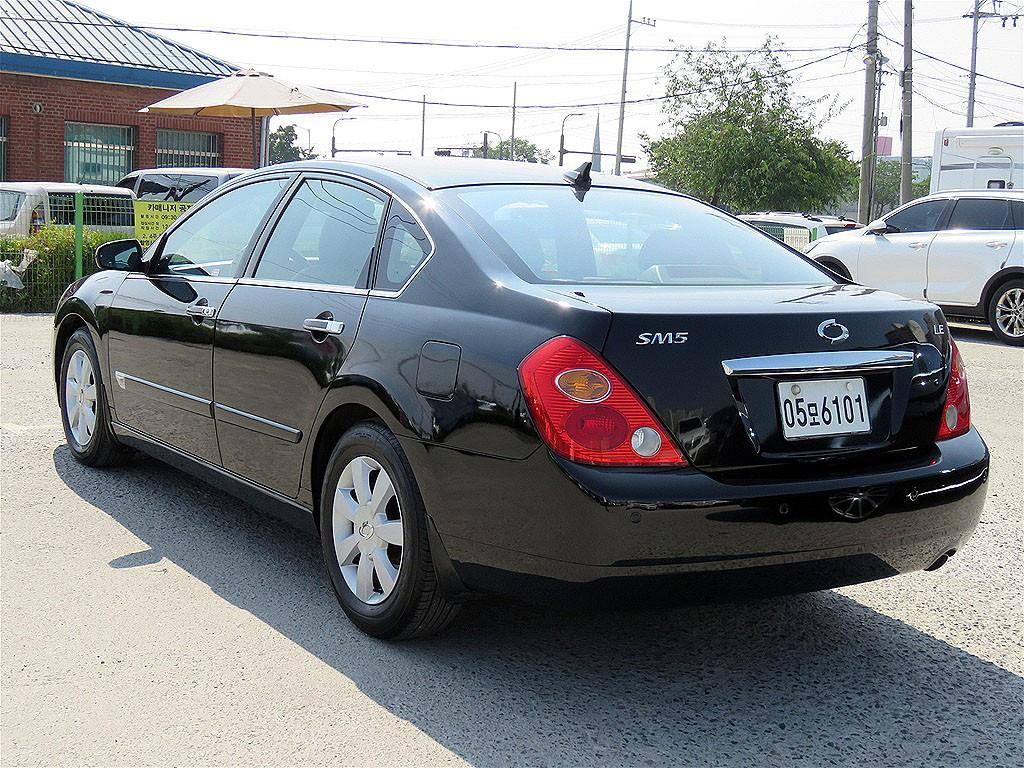plate: (778, 378, 870, 438)
